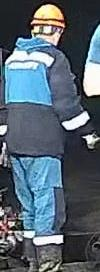helmet: (29, 3, 66, 28)
vest: (1, 43, 85, 156)
